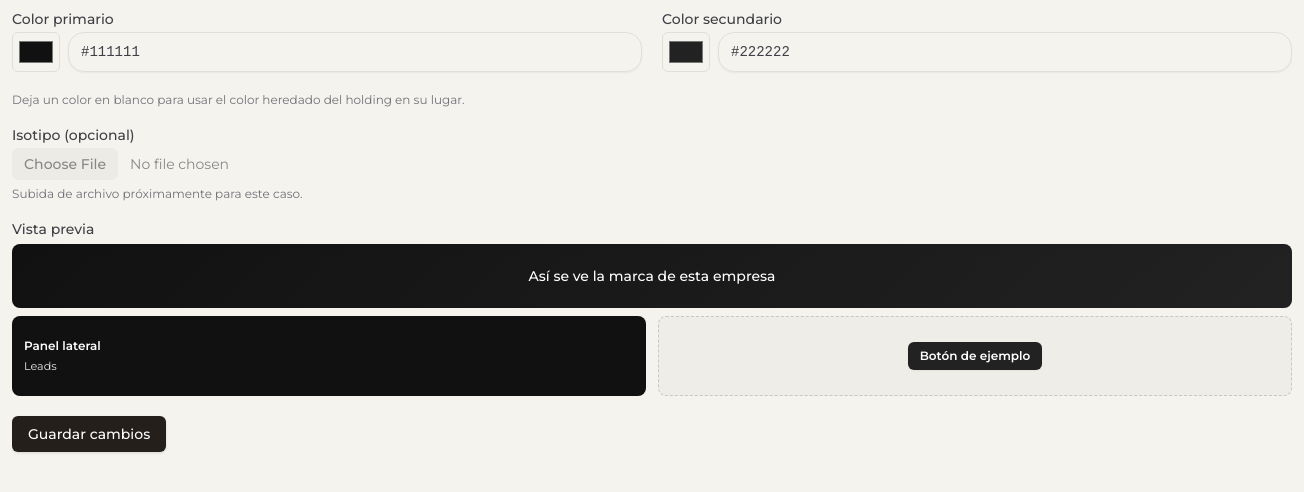
Scenario: EmpresaAparienciaForm — vista previa extendida (contraste + mockup) › muestra una advertencia no bloqueante cuando el color primario elegido tiene bajo contraste
Replace the text in the field labelled "Color primario" with "#888888" at x=355, y=52, box [68,32,642,72]
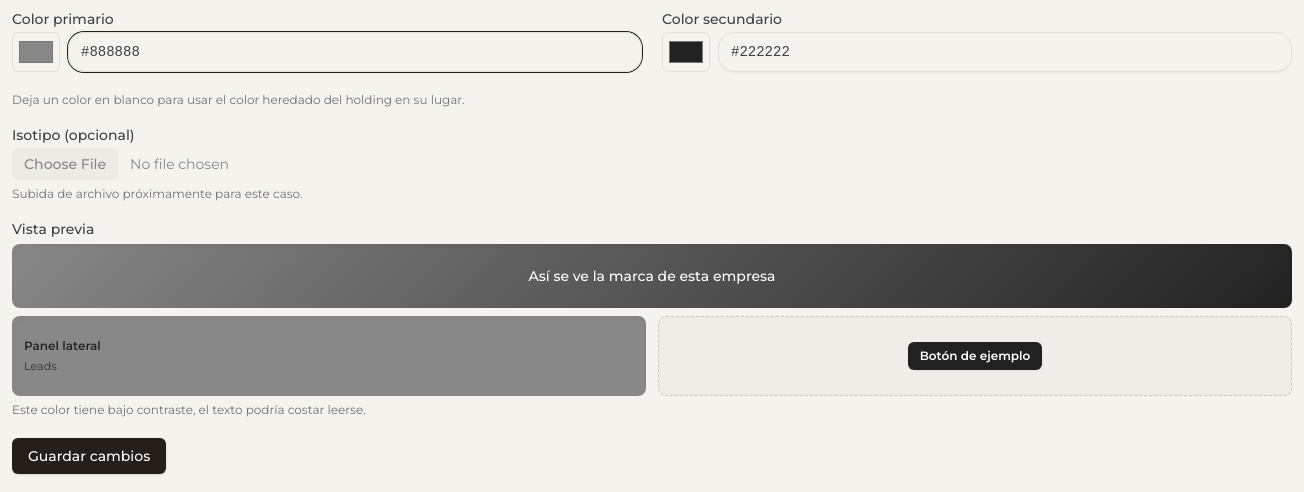
Result: the text "Este color tiene bajo contraste, el texto podría costar leerse." is shown once at [12,402,366,417]
